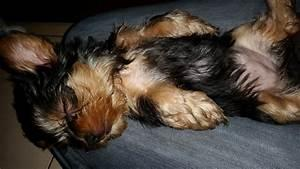dog: (0, 0, 299, 151)
